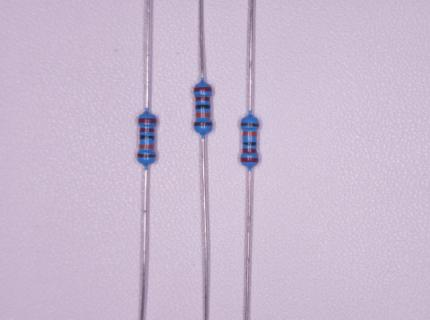Black band: (195, 104, 211, 109), (140, 135, 154, 140), (242, 142, 257, 146)
Brown band: (137, 153, 156, 157), (194, 122, 212, 126), (242, 123, 259, 126)
Orange band: (196, 112, 210, 118), (140, 144, 154, 149), (242, 131, 256, 136)
Red band: (241, 157, 258, 162), (139, 118, 157, 122), (194, 88, 212, 92), (243, 148, 257, 153), (140, 128, 154, 132), (196, 97, 209, 101)
